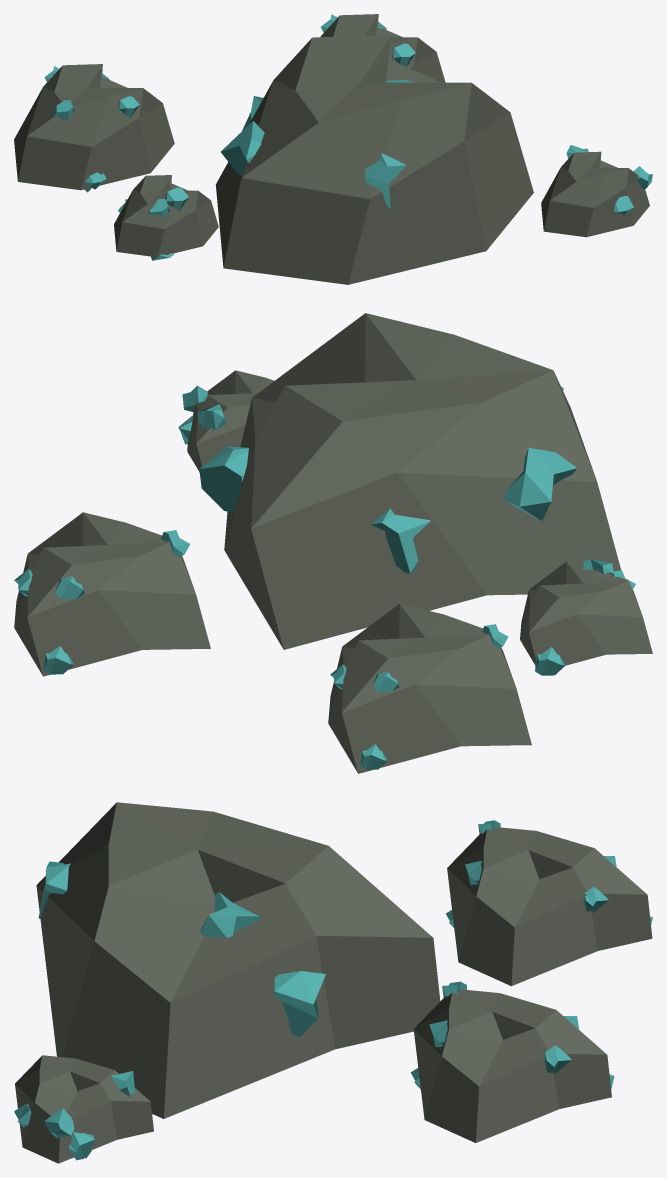
The model's file is stone_cooper_ore.fbx.
3 views of the same model, one above another, from view 1: azimuth 30°, elevation 25°; view 2: azimuth 150°, elevation 25°; view 3: azimuth 270°, elevation 25° (orthographic). The views are drawn at different scales.
Visible parts, largest first — view 1: Сфера.003, Сфера, Сфера.002, Сфера.004, Сфера.001, Сфера.009, Сфера.007; view 2: Сфера.003, Сфера, Сфера.001, Сфера.004, Сфера.002, Сфера.009, Сфера.006, Сфера.008; view 3: Сфера.003, Сфера, Сфера.001, Сфера.002, Сфера.006, Сфера.005, Сфера.007, Сфера.002|Сфера.007|Dupli|2, Сфера.002|Сфера.007|Dupli|1.
Boxes of the visible parts, x1,y1,x2,y2 form: Сфера.003: (215, 35, 533, 284); Сфера: (14, 64, 174, 190); Сфера.002: (541, 151, 649, 237); Сфера.004: (114, 175, 218, 257); Сфера.001: (320, 14, 445, 82); Сфера.009: (221, 121, 264, 175); Сфера.007: (365, 153, 406, 209); Сфера.003: (224, 313, 620, 649); Сфера: (328, 603, 531, 773); Сфера.001: (14, 512, 210, 676); Сфера.004: (520, 561, 652, 665); Сфера.002: (187, 370, 274, 471); Сфера.009: (504, 448, 577, 520); Сфера.006: (199, 446, 248, 512); Сфера.008: (371, 508, 430, 573); Сфера.003: (36, 802, 440, 1118); Сфера: (447, 827, 652, 986); Сфера.001: (413, 989, 611, 1142); Сфера.002: (15, 1055, 153, 1163); Сфера.006: (273, 971, 325, 1036); Сфера.005: (200, 892, 259, 937); Сфера.007: (38, 861, 70, 918); Сфера.002|Сфера.007|Dupli|2: (44, 1108, 74, 1138); Сфера.002|Сфера.007|Dupli|1: (68, 1132, 94, 1160).
Bounding box in the file's own units: 94.92 × 31.96 × 93.26.
